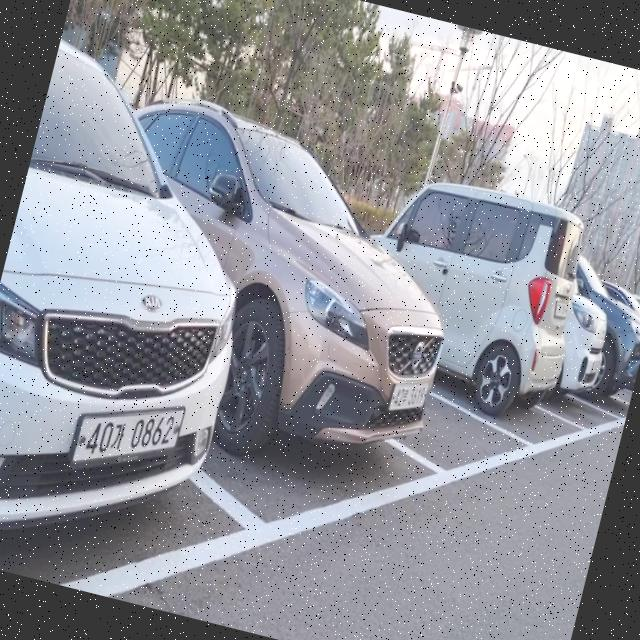empty: (406, 334, 537, 485)
occupied: (0, 89, 306, 616), (171, 175, 491, 564), (429, 208, 631, 462), (528, 284, 640, 429), (584, 297, 640, 427)
